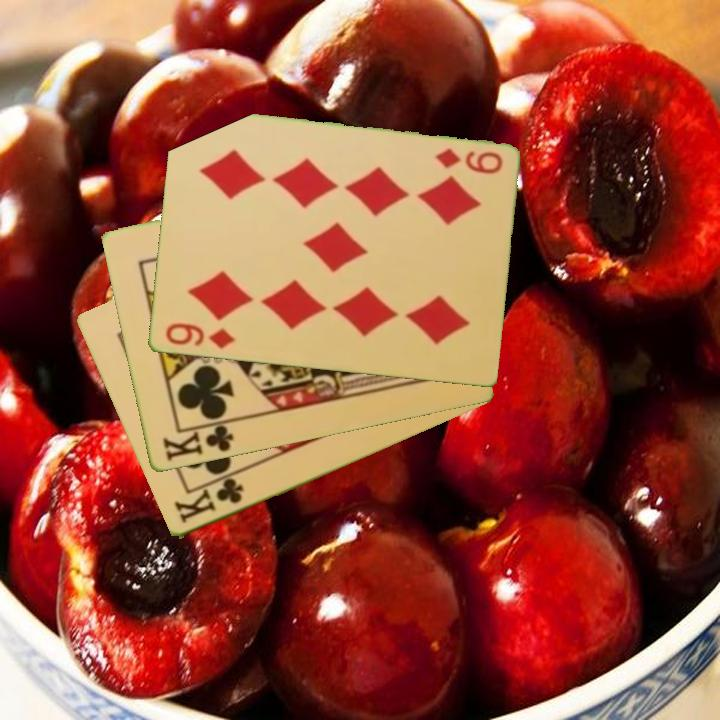9d: (161, 320, 238, 353), (431, 145, 505, 177)
Kc: (171, 475, 247, 528), (159, 417, 237, 464)
